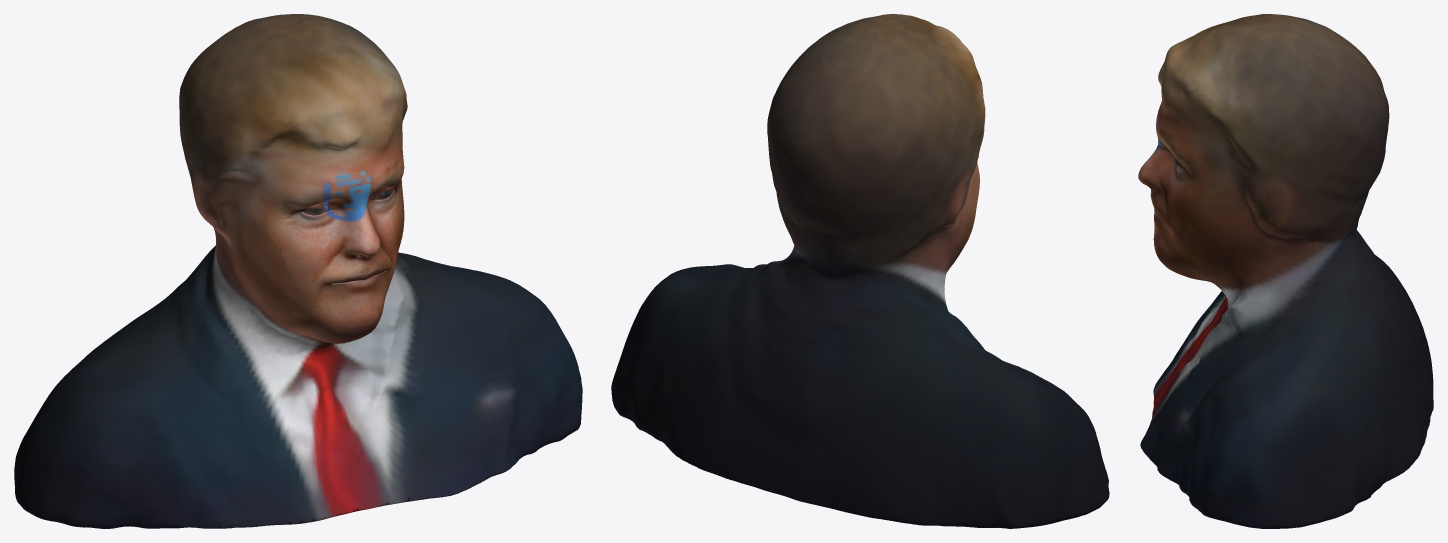
Rendered from head_mesh.fbx.
The picture shows the model from 3 angles, left to right: view 1: azimuth 30°, elevation 25°; view 2: azimuth 150°, elevation 25°; view 3: azimuth 270°, elevation 25°; orthographic projection. The views are drawn at different scales.
Parts seen in each view (by area): view 1: Head; view 2: Head; view 3: Head.
Boxes of the visible parts, x1,y1,x2,y2 form: Head: [14, 14, 582, 528]; Head: [611, 14, 1109, 528]; Head: [1138, 14, 1433, 528].
Size of the model in its own units: 0.4983 by 0.3948 by 0.2714.
